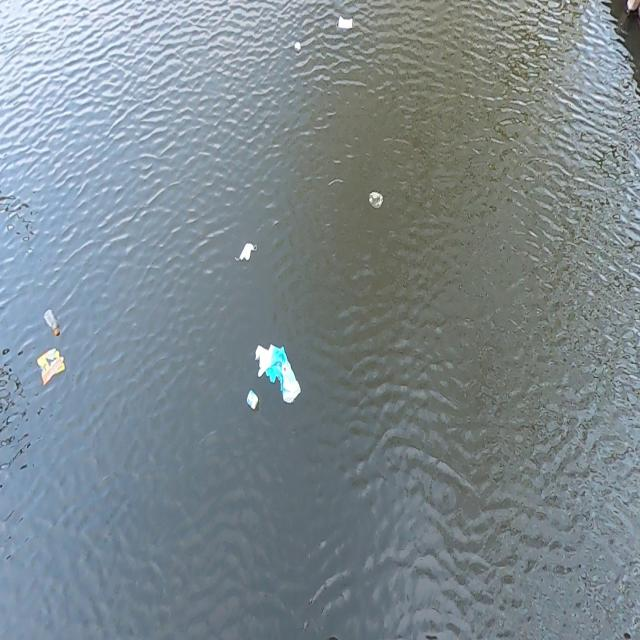Autre plastique: (34, 347, 68, 387)
Bouteille plastique: (42, 304, 62, 339)
Non plastique: (236, 237, 260, 269), (332, 12, 359, 34), (244, 388, 262, 413)
Sac plastique: (247, 333, 306, 413)
